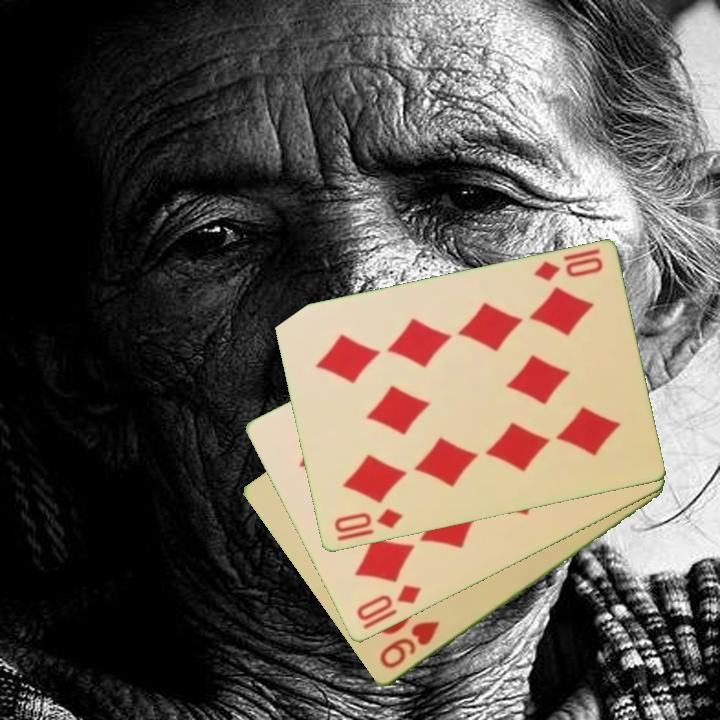10d: (353, 581, 424, 625), (530, 245, 606, 285), (330, 505, 405, 545)
9h: (375, 618, 443, 673)
